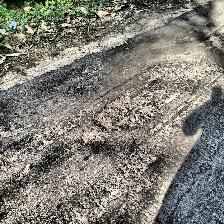pothole: (90, 92, 154, 132), (81, 130, 111, 148)
